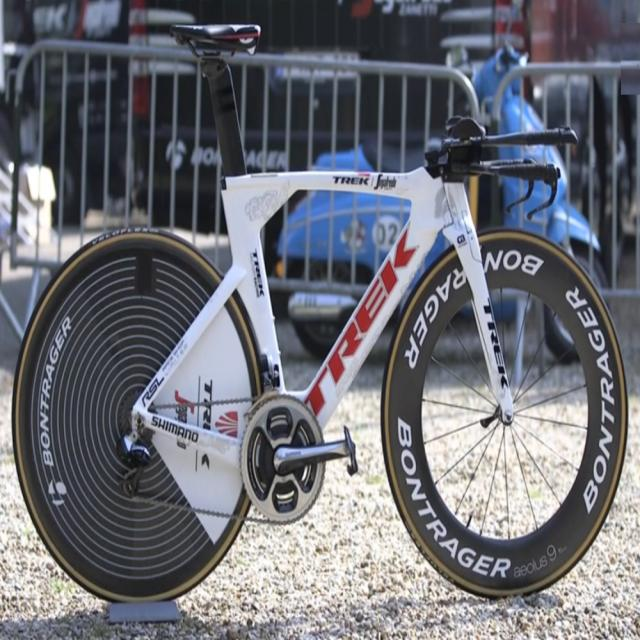TT-bike: (10, 20, 629, 599)
